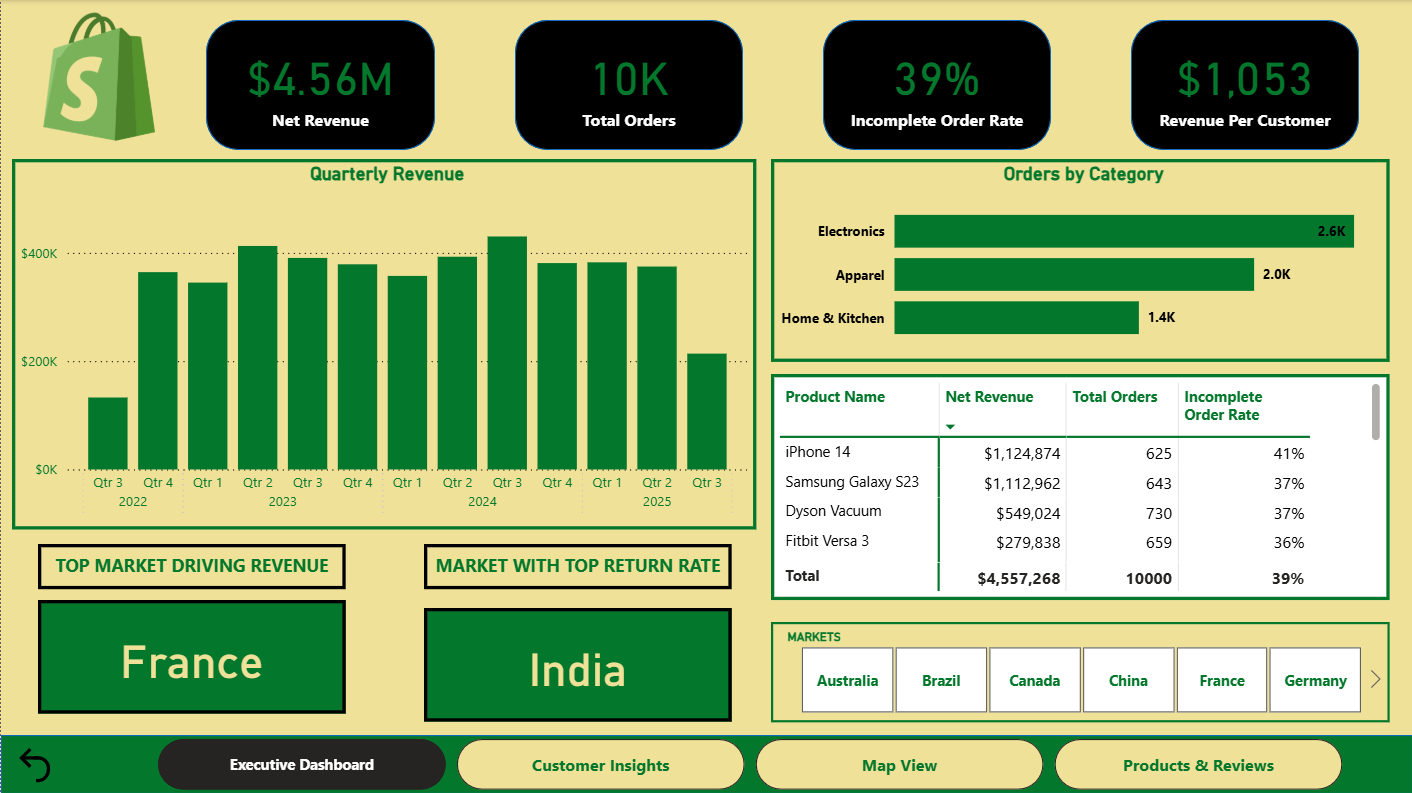

Layout of this report page (visuals, bound fields, positions):
{"tool":"powerbi","page":{"name":"Executive Dashboard","canvas":[1280,720],"ordinal":0},"visuals":[{"type":"shape","box":[1024.7,18.1,206.8,117.9],"z":0},{"type":"shape","box":[745.4,18.1,206.8,117.9],"z":1000},{"type":"shape","box":[0,666.5,1280.4,53.5],"z":2000},{"type":"image","box":[0,4.5,177.7,129.7],"z":3000},{"type":"shape","box":[290.2,229.4,207.7,117.9],"z":4000},{"type":"shape","box":[394.5,177.7,206.8,117.9],"z":5000},{"type":"shape","box":[466.1,18.1,206.8,117.9],"z":6000},{"type":"shape","box":[185.9,18.1,207.7,117.9],"z":7000},{"type":"card","fields":{"Values":["Measures Table.Net Revenue"]},"box":[200.4,27.2,178.6,98.8],"z":8000},{"type":"card","fields":{"Values":["Measures Table.Return Rate"]},"box":[759.9,27.2,177.7,98.8],"z":9000},{"type":"card","fields":{"Values":["Measures Table.Total Orders"]},"box":[480.6,27.2,177.7,98.8],"z":10000},{"type":"card","fields":{"Values":["Measures Table.Average Revenue Per Customer"]},"box":[1039.2,27.2,177.7,98.8],"z":11000},{"type":"clusteredColumnChart","title":"Quarterly Revenue","fields":{"Y":["Measures Table.Net Revenue"],"Category":["Calendar Lookup.Start of Month.Variation.Date Hierarchy.Year","Calendar Lookup.Start of Month.Variation.Date Hierarchy.Quarter"]},"box":[10,144.2,674.7,335.5],"z":12000},{"type":"pivotTable","fields":{"Rows":["Products_Table.PRODUCT NAME"],"Values":["Measures Table.Net Revenue","Measures Table.Total Orders","Measures Table.Return Rate"]},"box":[698.2,339.1,561.3,204.9],"z":13000},{"type":"clusteredBarChart","title":"Orders by Category","fields":{"Category":["Products_Table.CATEGORY"],"Y":["Measures Table.Total Orders"]},"box":[698.2,144.2,561.3,184.1],"z":14000},{"type":"card","fields":{"Values":["Min(Customers Table.COUNTRY)"]},"box":[33.6,544.1,279.3,103.4],"z":15000},{"type":"textbox","box":[33.6,493.3,279.3,40.8],"z":16000},{"type":"card","fields":{"Values":["Min(Customers Table.COUNTRY)"]},"box":[383.6,551.3,279.3,103.4],"z":17000},{"type":"textbox","box":[383.6,493.3,279.3,40.8],"z":18000},{"type":"slicer","fields":{"Values":["Customers Table.COUNTRY"]},"box":[698.2,564,561.3,90.7],"z":19000},{"type":"actionButton","box":[10,672.8,47.2,41.7],"z":20000},{"type":"bookmarkNavigator","box":[142.4,670.1,1074.6,46.2],"z":20001}]}

Visuals, with their boxes in screenshot pixels (x1, y1, x2, y2), scaled from the page's 1280x720 canvas onto the 1412x793 screenshot:
shape: BBox(1130, 20, 1358, 150)
shape: BBox(822, 20, 1050, 150)
shape: BBox(0, 734, 1411, 792)
image: BBox(0, 5, 196, 148)
shape: BBox(320, 253, 549, 383)
shape: BBox(435, 196, 663, 326)
shape: BBox(514, 20, 742, 150)
shape: BBox(205, 20, 434, 150)
card - Measures Table.Net Revenue: BBox(221, 30, 418, 139)
card - Measures Table.Return Rate: BBox(838, 30, 1034, 139)
card - Measures Table.Total Orders: BBox(530, 30, 726, 139)
card - Measures Table.Average Revenue Per Customer: BBox(1146, 30, 1342, 139)
"Quarterly Revenue" clusteredColumnChart: BBox(11, 159, 755, 528)
pivotTable - Products_Table.PRODUCT NAME x Measures Table.Net Revenue: BBox(770, 373, 1389, 599)
"Orders by Category" clusteredBarChart: BBox(770, 159, 1389, 362)
card - Min(Customers Table.COUNTRY): BBox(37, 599, 345, 713)
textbox: BBox(37, 543, 345, 588)
card - Min(Customers Table.COUNTRY): BBox(423, 607, 731, 721)
textbox: BBox(423, 543, 731, 588)
slicer - Customers Table.COUNTRY: BBox(770, 621, 1389, 721)
actionButton: BBox(11, 741, 63, 787)
bookmarkNavigator: BBox(157, 738, 1343, 789)
